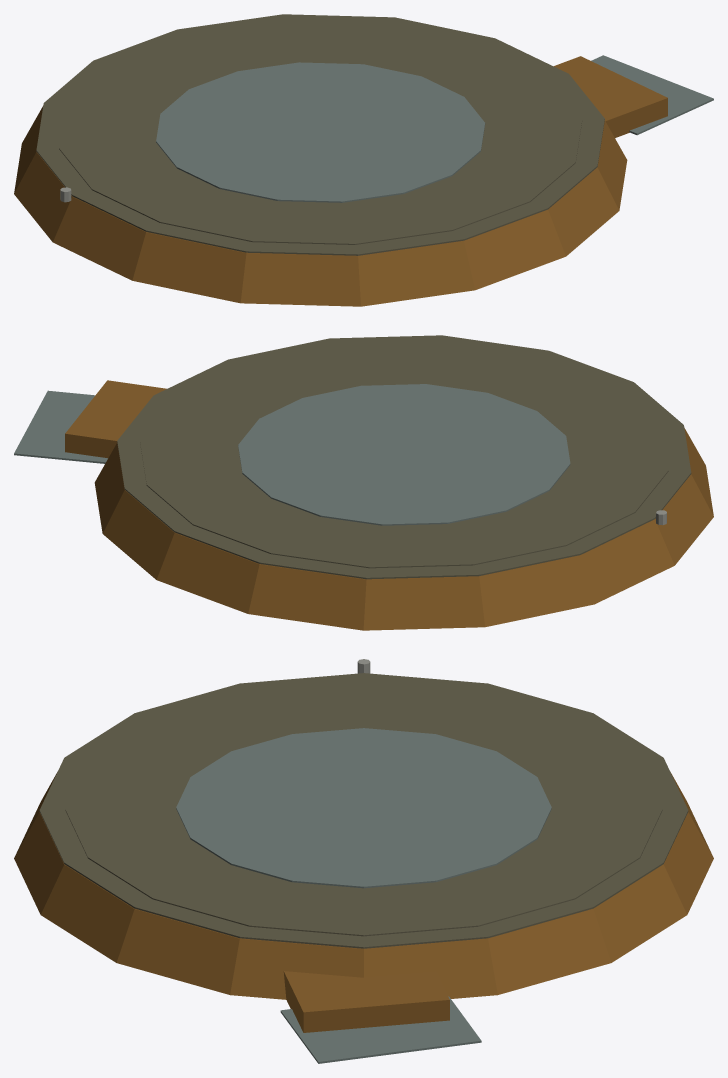
File: SM_Balsa_v4_Rota_LOD0.fbx
The picture shows the model from 3 angles, top to bottom: view 1: azimuth 30°, elevation 25°; view 2: azimuth 150°, elevation 25°; view 3: azimuth 270°, elevation 25°; orthographic projection. The views are drawn at different scales.
Visible parts, largest first — view 1: SM_viveres_nules_v19_LOD0; view 2: SM_viveres_nules_v19_LOD0; view 3: SM_viveres_nules_v19_LOD0.
Boxes of the visible parts, x1,y1,x2,y2 form: SM_viveres_nules_v19_LOD0: (14,14,713,306); SM_viveres_nules_v19_LOD0: (14,335,713,630); SM_viveres_nules_v19_LOD0: (14,659,713,1063).
Bounding box in the file's own units: 19.62 × 1.45 × 16.4.
